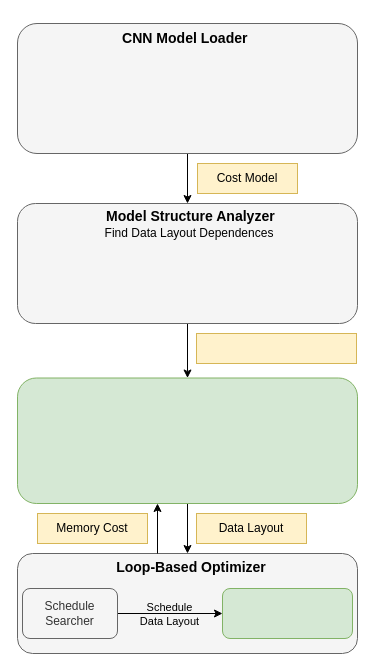
Some shapes in this 375 by 671 pixel diagram are drawn without their labels. The centre of each missing label's shape, as x and y in pixels:
"DP-Based Data Layout Optimizer" belongs at point (187, 440).
"Operator Dependences" belongs at point (276, 348).
"Transaction-Based Memory Cost Model (TMCM)" belongs at point (287, 613).
